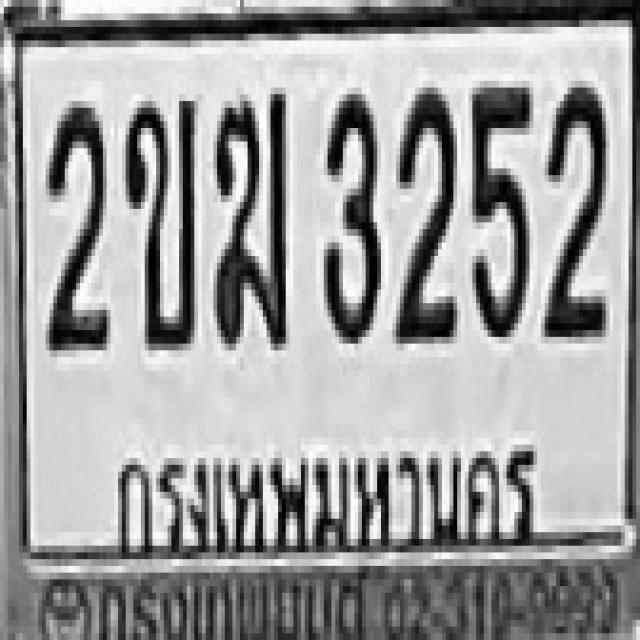11KhorKhai: (122, 94, 194, 344)
15KhorRaKhang: (210, 88, 286, 344)
2: (42, 94, 107, 344), (392, 84, 453, 340), (541, 81, 602, 330)
3: (320, 87, 377, 337)
5: (468, 81, 530, 337)
Bangkok: (102, 435, 545, 552)
